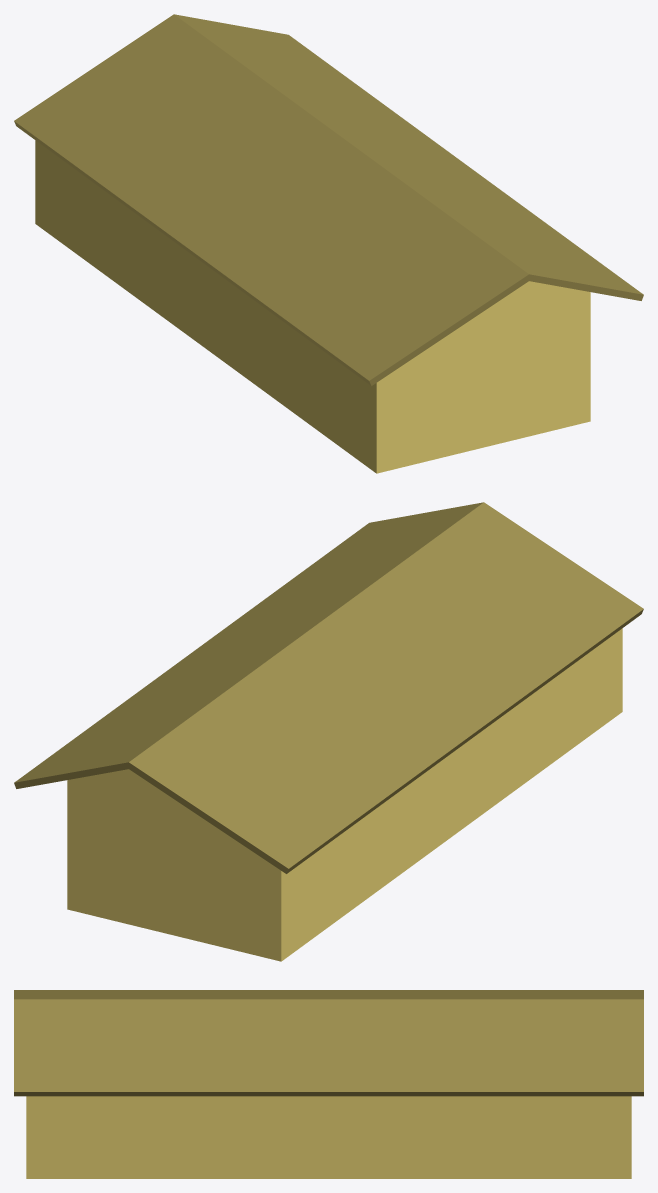
The model's file is result.glb.
3 renders of one model, top to bottom at view 1: azimuth 30°, elevation 25°; view 2: azimuth 150°, elevation 25°; view 3: azimuth 270°, elevation 25°, orthographic. The views are drawn at different scales.
Visible parts, largest first — view 1: b385dc4f-8254-4c4b-a674-c2376c89eff7__undefined (×2), 30ed9224-8e55-4fb2-9fce-ee5d23376933__undefined; view 2: b385dc4f-8254-4c4b-a674-c2376c89eff7__undefined (×2), 30ed9224-8e55-4fb2-9fce-ee5d23376933__undefined; view 3: b385dc4f-8254-4c4b-a674-c2376c89eff7__undefined (×2), 30ed9224-8e55-4fb2-9fce-ee5d23376933__undefined.
Part boxes in pixels (x1,y1,x2,y2): b385dc4f-8254-4c4b-a674-c2376c89eff7__undefined (×2): (14,14,643,385); 30ed9224-8e55-4fb2-9fce-ee5d23376933__undefined: (35,140,590,473); b385dc4f-8254-4c4b-a674-c2376c89eff7__undefined (×2): (14,502,643,873); 30ed9224-8e55-4fb2-9fce-ee5d23376933__undefined: (67,628,622,961); b385dc4f-8254-4c4b-a674-c2376c89eff7__undefined (×2): (14,990,643,1096); 30ed9224-8e55-4fb2-9fce-ee5d23376933__undefined: (26,1096,631,1178).
Size of the model in its own units: 1135 by 667 by 2541.
